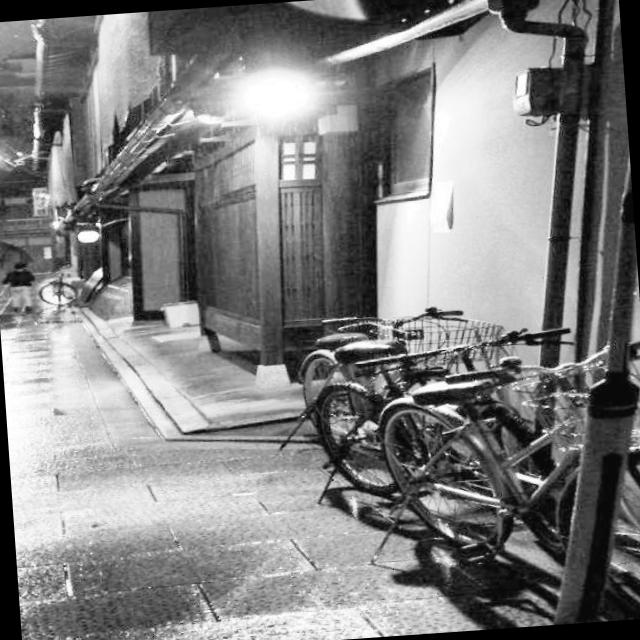Bicycle: (324, 340, 640, 639), (200, 284, 477, 494)
